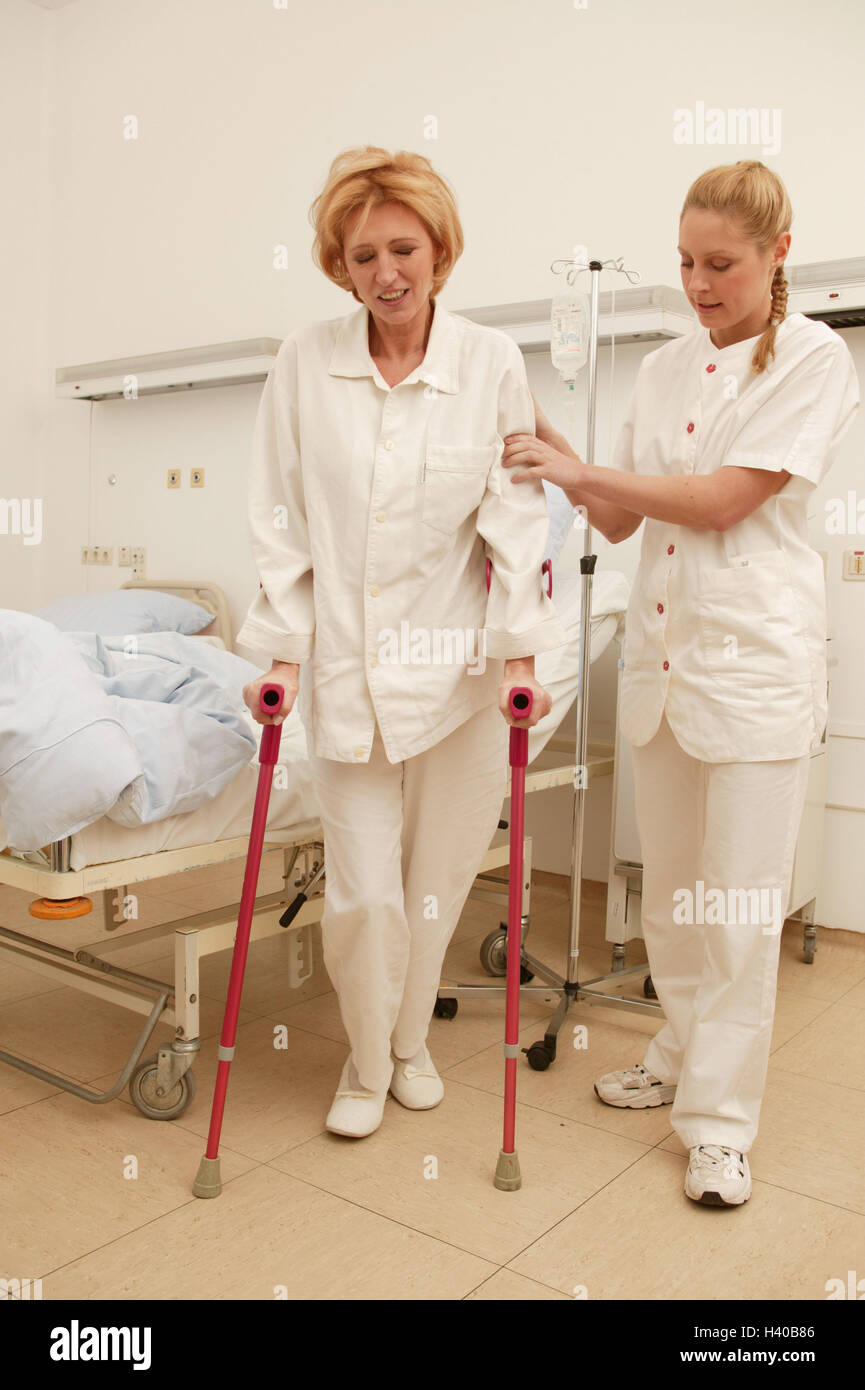crutches: (185, 143, 547, 1198)
